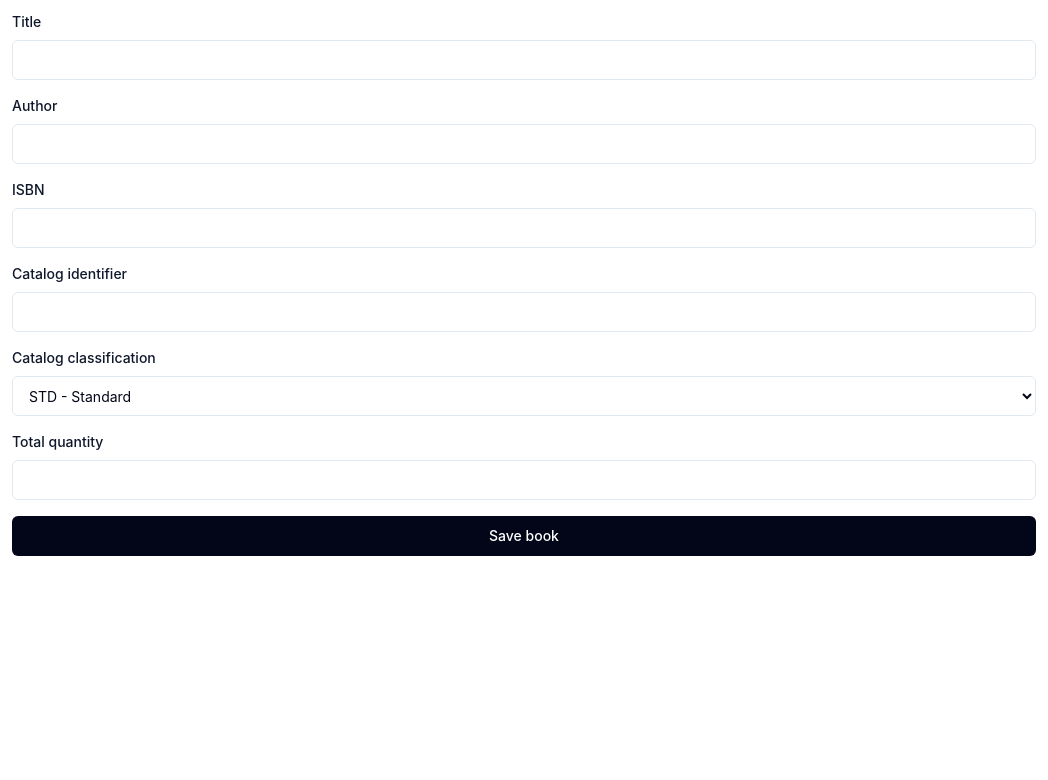
Test: BookForm › shows field validation messages before submit
Click the button "Save book" at (524, 536), box [12,516,1036,556]
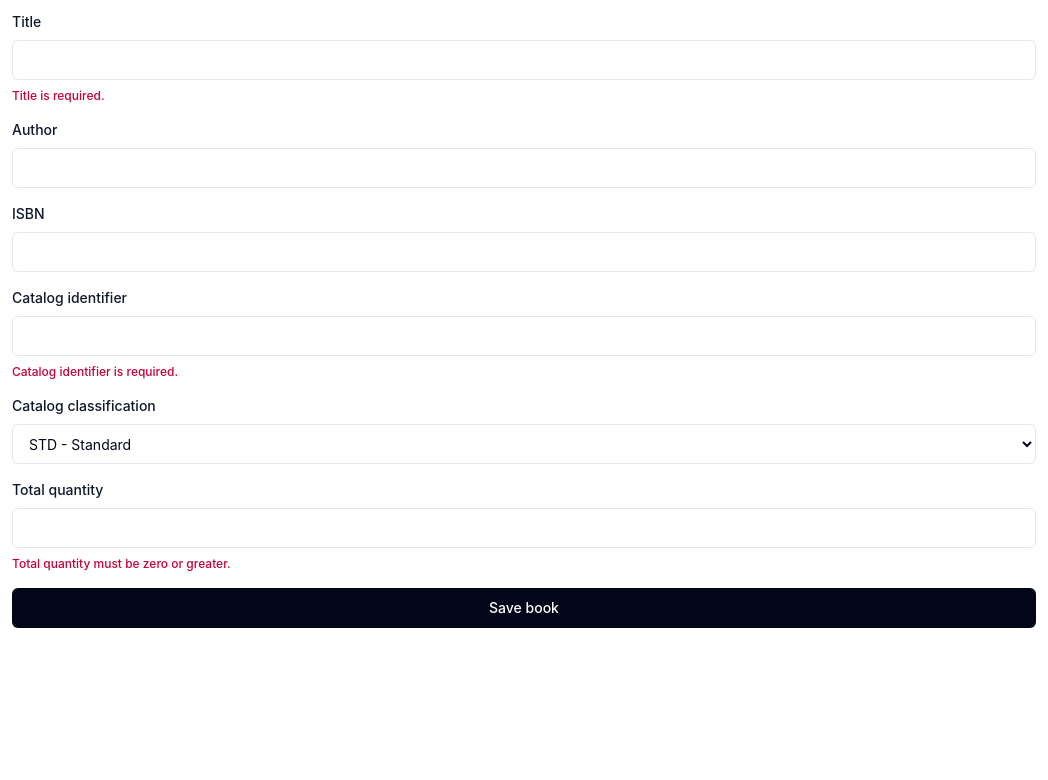
Now the text "Title is required." is shown, box [12,88,105,103]
Now the text "Catalog identifier is required." is shown, box [12,364,178,379]
Now the text "Total quantity must be zero or greater." is shown, box [12,556,231,571]
